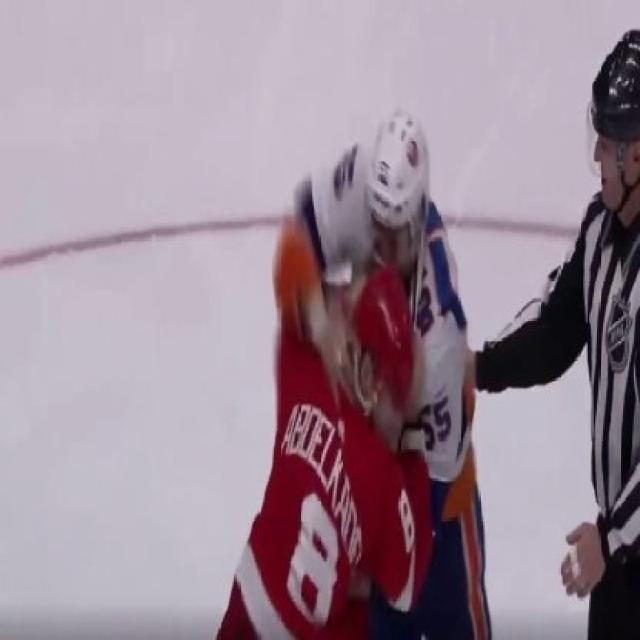fight: (169, 71, 534, 638)
non-fight: (418, 6, 638, 639)
